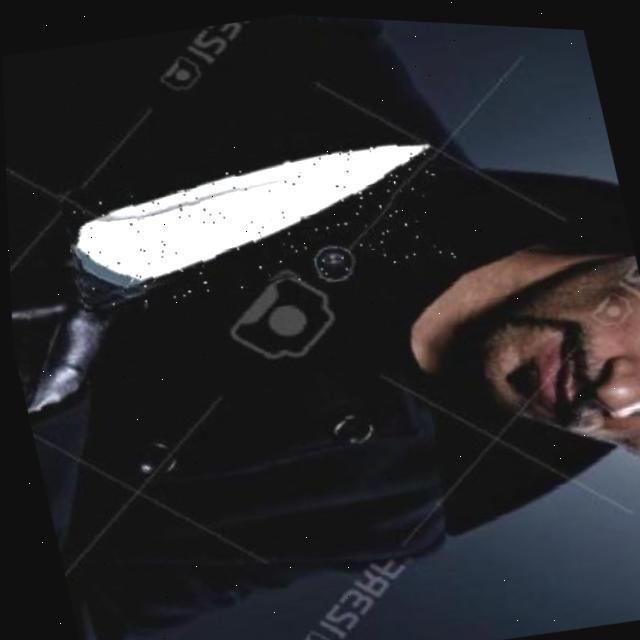knife: (52, 118, 456, 326)
